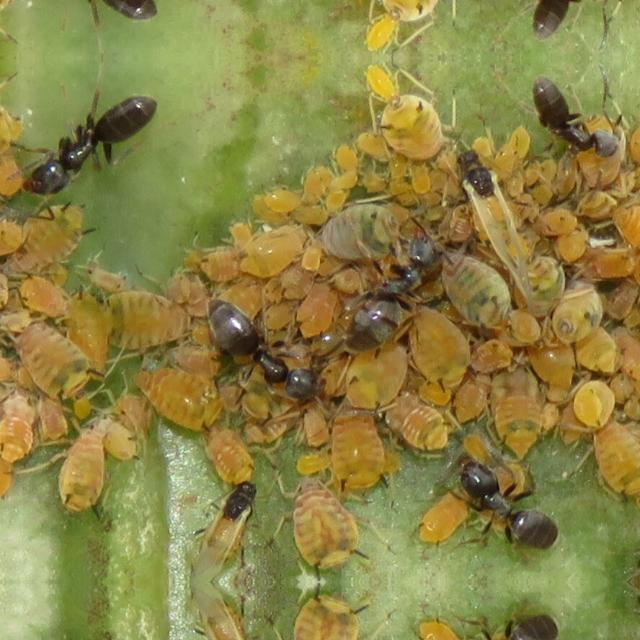Tapinoma: (7, 81, 175, 219), (192, 294, 336, 416), (338, 219, 458, 353), (434, 144, 538, 280), (444, 449, 572, 558), (516, 70, 630, 168), (179, 465, 275, 577), (5, 0, 174, 32), (179, 586, 275, 640), (516, 0, 628, 44), (444, 604, 572, 640)
